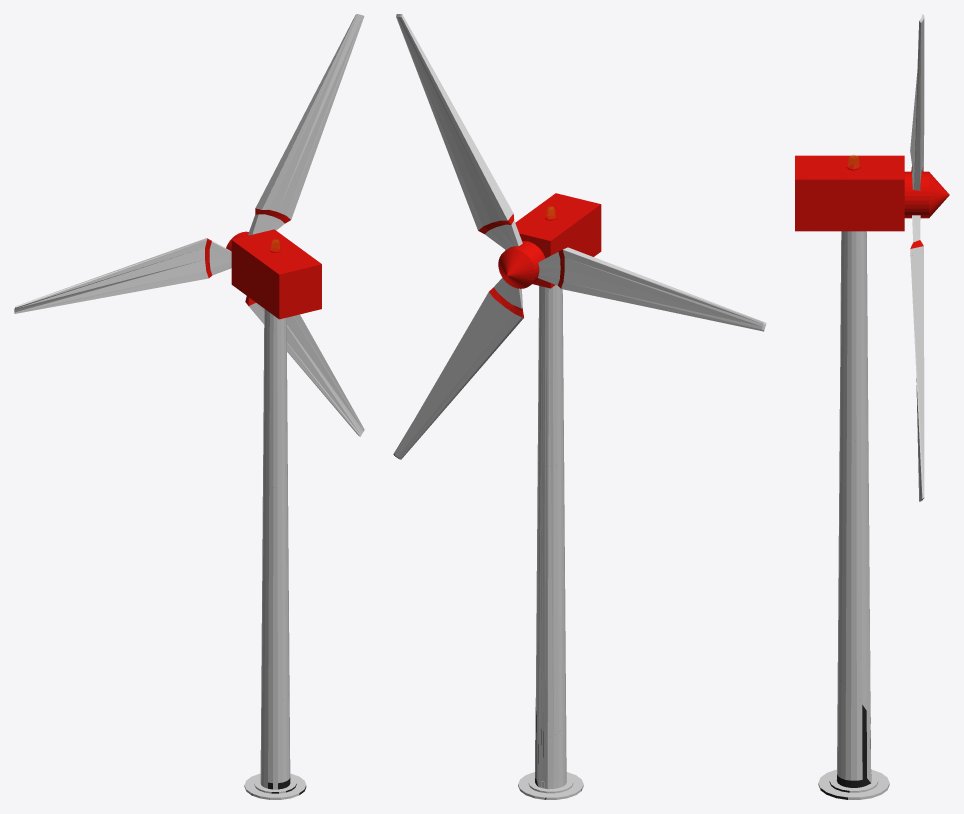
The model's file is wind turbine exploded.glb.
3 views of the same model, side by side, from view 1: azimuth 30°, elevation 25°; view 2: azimuth 150°, elevation 25°; view 3: azimuth 270°, elevation 25° (orthographic). The views are drawn at different scales.
Parts seen in each view (by area): view 1: Body_cell.003, Rotor_cell.007, Rotor_cell.005, Body_cell.005, Body_cell.008, Rotor_cell.002, Body_cell.007_cell.002, Body_cell.007_cell, Rotor_cell.001; view 2: Body_cell.003, Rotor_cell.007, Rotor_cell.002, Rotor_cell.005, Body_cell.005, Body_cell.008, Body_cell.007_cell.002, Body_cell.007_cell, Rotor_cell, Rotor_cell.001; view 3: Body_cell.003, Body_cell.005, Body_cell.007_cell.002, Body_cell.008, Body_cell.007_cell, Rotor_cell.002, Rotor_cell.007, Rotor_cell.003, Rotor_cell.006.
Part boxes in pixels (x1,y1,x2,y2): Body_cell.003: (261, 480, 289, 730); Rotor_cell.007: (248, 14, 364, 235); Rotor_cell.005: (80, 238, 231, 301); Body_cell.005: (263, 309, 287, 487); Body_cell.008: (244, 694, 306, 799); Rotor_cell.002: (245, 296, 364, 436); Body_cell.007_cell.002: (231, 229, 298, 310); Body_cell.007_cell: (267, 247, 321, 315); Rotor_cell.001: (42, 279, 95, 308); Body_cell.003: (535, 463, 565, 736); Rotor_cell.007: (396, 14, 522, 249); Rotor_cell.002: (393, 294, 523, 459); Rotor_cell.005: (538, 247, 704, 318); Body_cell.005: (537, 285, 563, 466); Body_cell.008: (518, 707, 583, 799); Body_cell.007_cell.002: (505, 210, 589, 288); Body_cell.007_cell: (532, 195, 601, 256); Rotor_cell: (506, 242, 545, 288); Rotor_cell.001: (684, 291, 736, 325); Body_cell.003: (837, 433, 870, 716); Body_cell.005: (839, 231, 868, 440); Body_cell.007_cell.002: (821, 155, 904, 231); Body_cell.008: (818, 679, 889, 799); Body_cell.007_cell: (795, 155, 848, 231); Rotor_cell.002: (910, 250, 924, 501); Rotor_cell.007: (910, 14, 924, 190); Rotor_cell.003: (904, 173, 946, 218); Rotor_cell.006: (910, 215, 923, 256).
Bounding box in the file's own units: 69.44 × 137 × 23.05.
